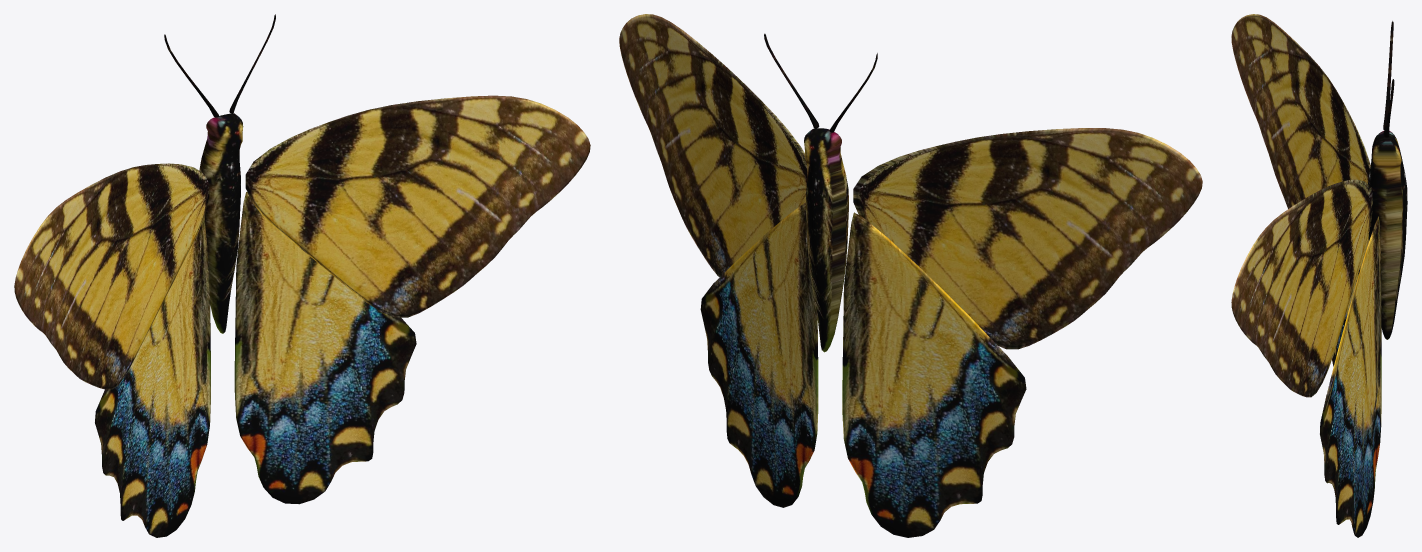
3 views of the same model, side by side, from view 1: azimuth 30°, elevation 25°; view 2: azimuth 150°, elevation 25°; view 3: azimuth 270°, elevation 25° (orthographic). The views are drawn at different scales.
Visible parts, largest first — view 1: Plane, Cube; view 2: Plane, Cube; view 3: Plane, Cube.
Boxes of the visible parts, x1,y1,x2,y2 form: Plane: (14,95,590,537); Cube: (164,14,275,333); Plane: (619,14,1202,537); Cube: (764,33,877,352); Plane: (1231,14,1381,537); Cube: (1368,21,1407,339).
Bounding box in the file's own units: 3.37 × 2.72 × 0.9436.
Materials: 1 (1 with a texture image).
